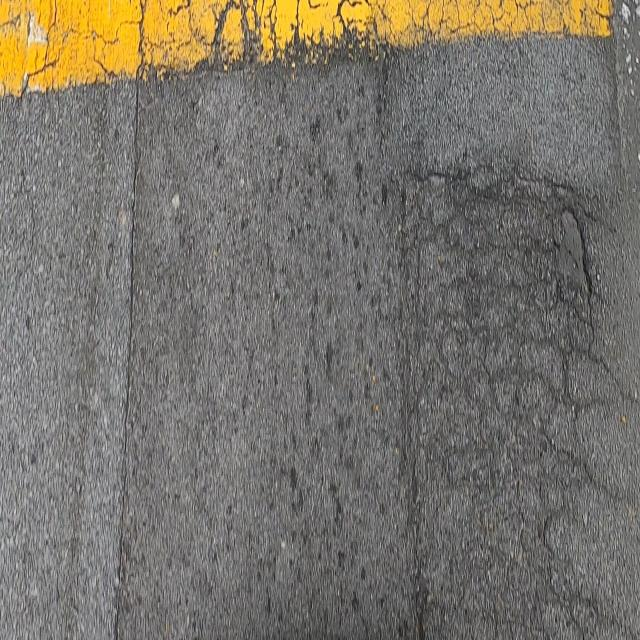Retak-Buaya: (401, 157, 635, 640)
Retak-Memanjang: (110, 1, 153, 640)
